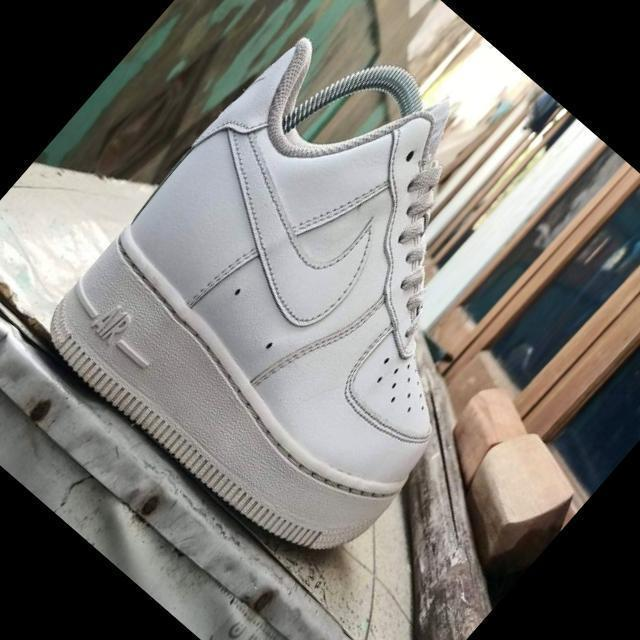nike original air force: (10, 0, 618, 606)
